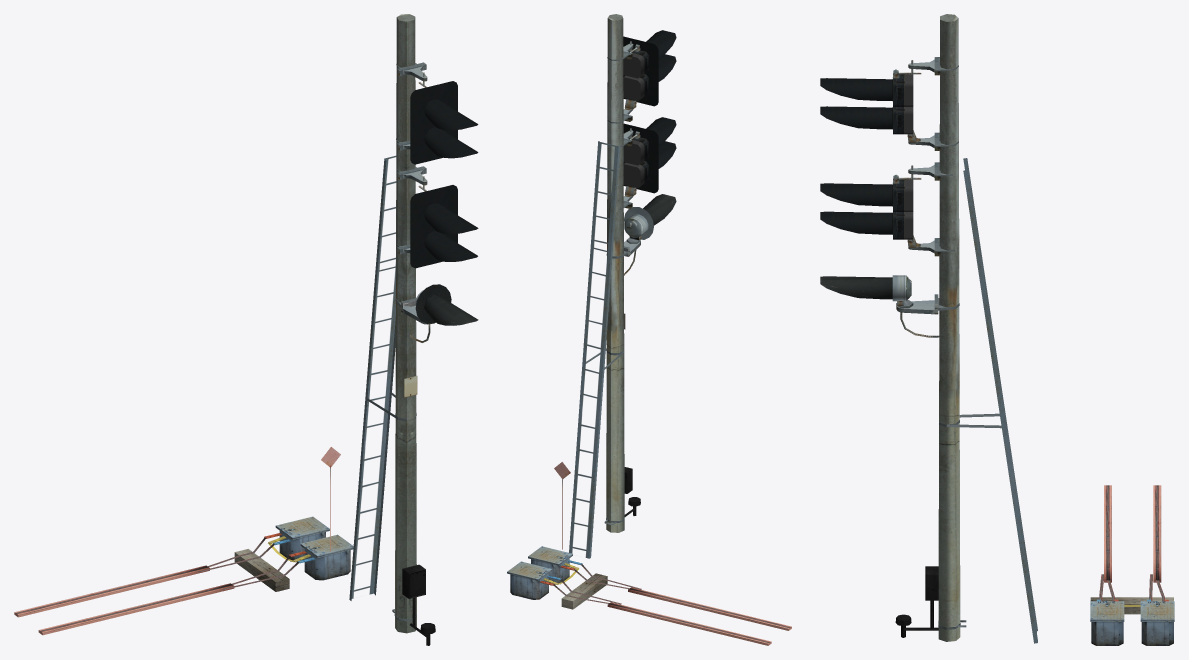
The model's file is signal_enter.gltf.
3 views of the same model, side by side, from view 1: azimuth 30°, elevation 25°; view 2: azimuth 150°, elevation 25°; view 3: azimuth 270°, elevation 25° (orthographic). The views are drawn at different scales.
Size of the model in its own units: 4.08 by 7.66 by 3.97.
Materials: 1 (1 with a texture image).
